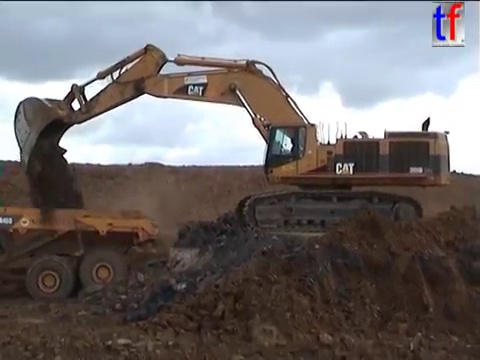excavator: (11, 41, 453, 236)
truck: (1, 204, 162, 305)
